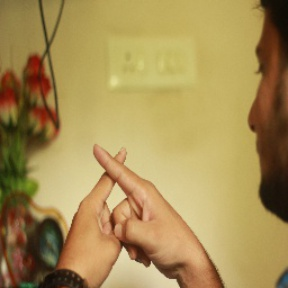X: (67, 129, 167, 236)
